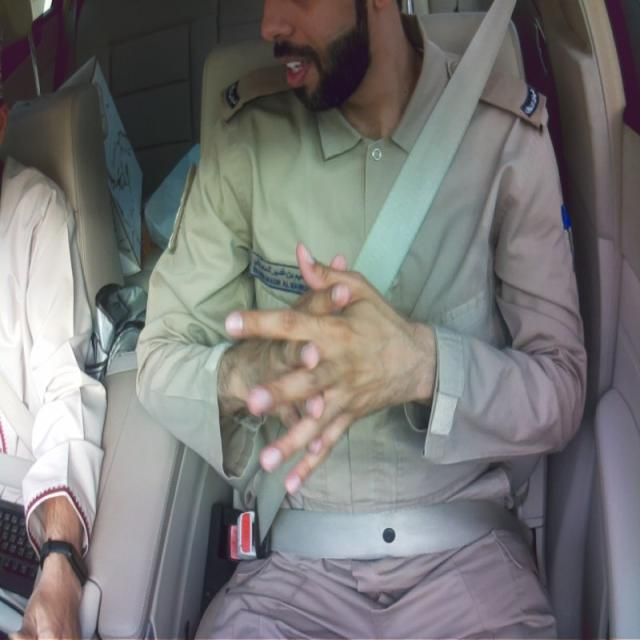seatbelt: (352, 0, 515, 294), (258, 457, 528, 559)
